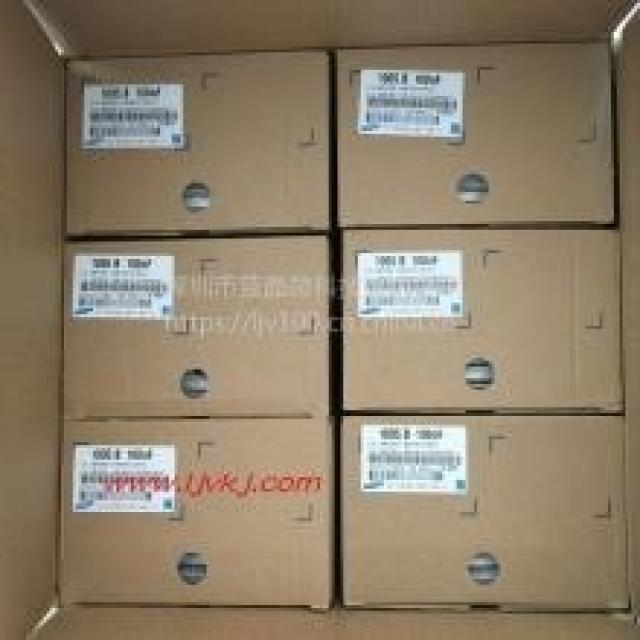box: (340, 416, 631, 611), (58, 419, 335, 611), (337, 41, 617, 230), (340, 230, 625, 413), (64, 233, 332, 425), (64, 47, 329, 236)
